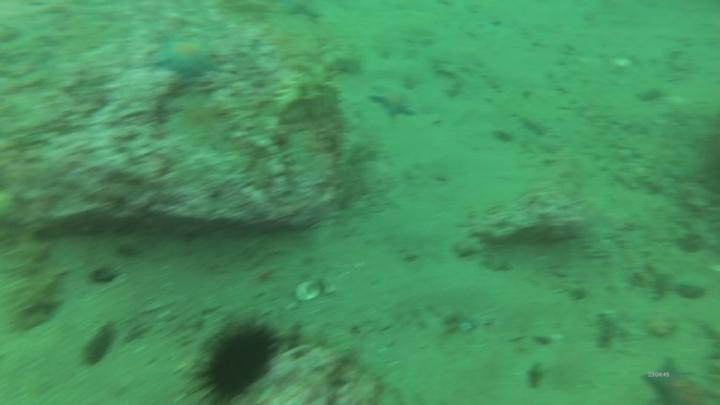echinus: (206, 333, 271, 397)
holothurian: (6, 232, 61, 325)
starfish: (643, 358, 720, 405), (153, 37, 216, 78), (369, 87, 416, 119)
